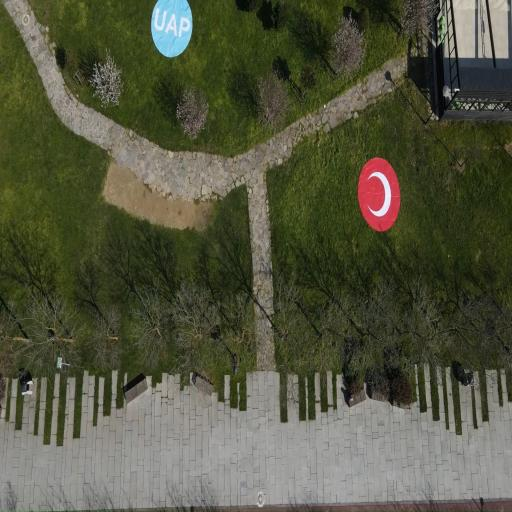UAP: (358, 158, 400, 231)
car: (151, 0, 192, 57)
